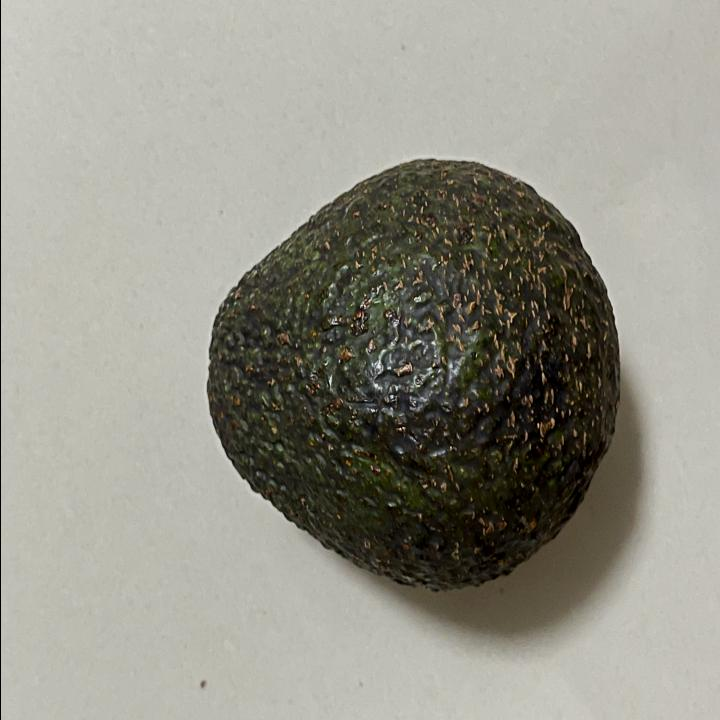Level1: (192, 144, 626, 608)
